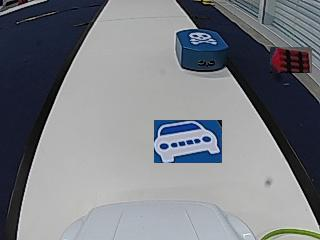danger: (189, 30, 217, 45)
